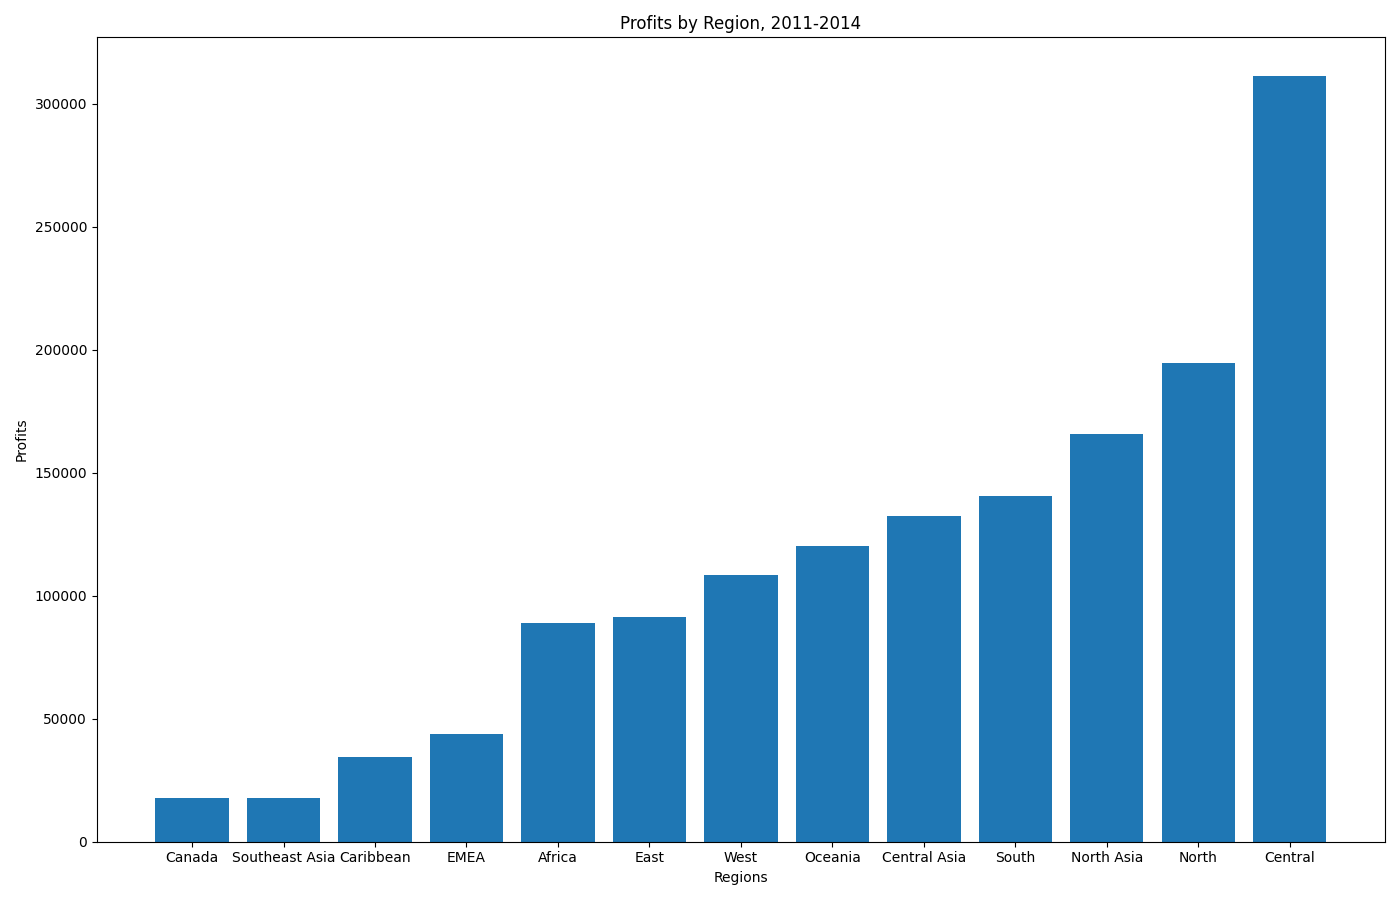

What the dashboard file says about the page in this screenshot:
{"tool":"powerbi","page":{"name":"Total Profits By Region","canvas":[1280,720],"ordinal":1},"visuals":[{"type":"clusteredColumnChart","fields":{"Y":["Sum(orders.Profit)"],"Category":["orders.Region"]},"box":[0,0,1280,720],"z":0}]}

Visuals, with their boxes on the page's 1280x720 design canvas (x1, y1, x2, y2). These are canvas units, not pixel positions in the 1400x900 screenshot, which may show the page scaled, cropped or inside an application window:
clusteredColumnChart - Sum(orders.Profit) x orders.Region: box(0, 0, 1280, 720)
